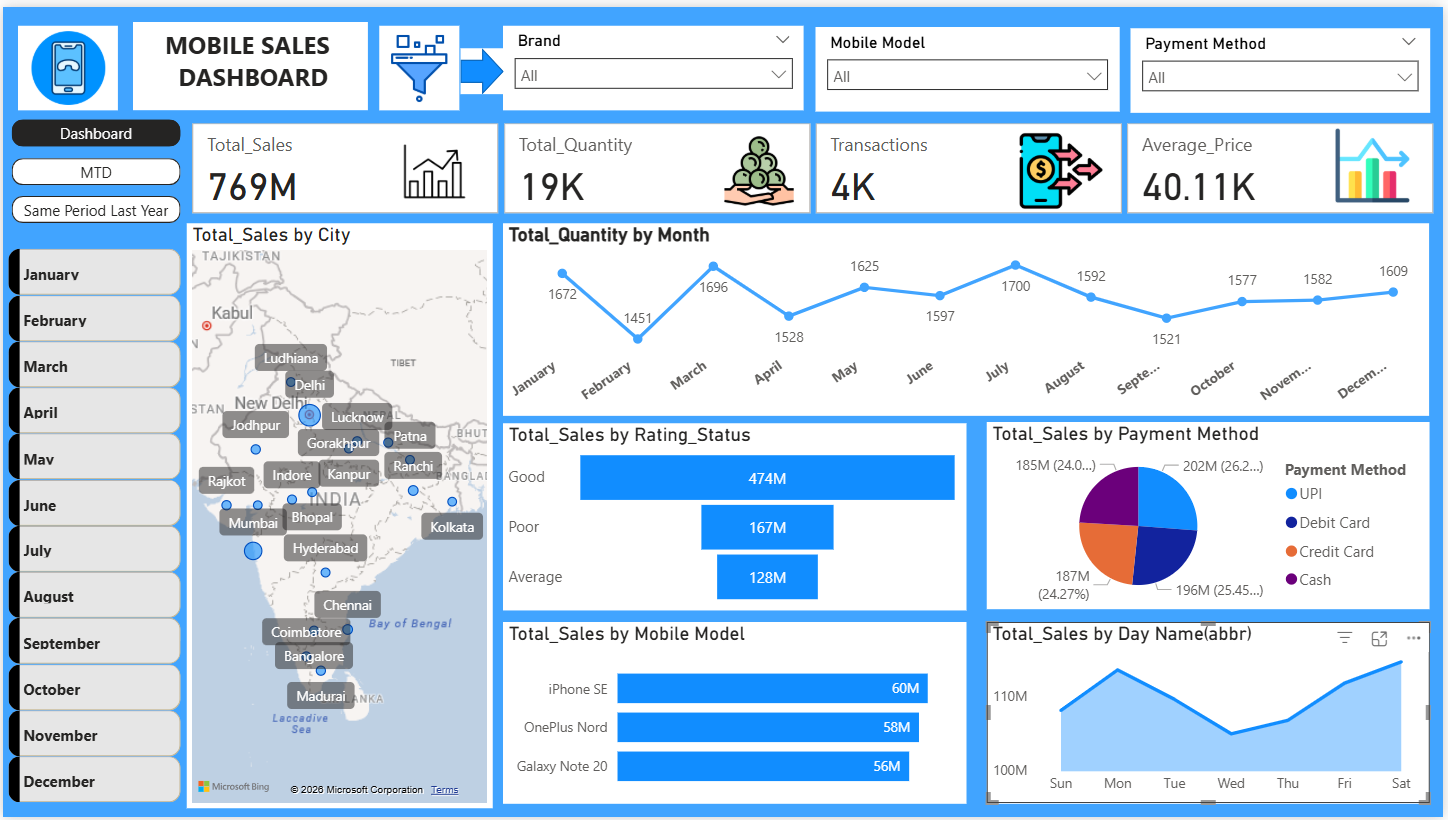

The page's visual inventory and layout, read from the dashboard file:
{"tool":"powerbi","page":{"name":"Dashboard","canvas":[1280,720],"ordinal":0},"visuals":[{"type":"advancedSlicerVisual","fields":{"Values":["Custom_Calender.Date.Variation.Date Hierarchy.Month"]},"box":[0,209.9,163.3,510.5],"z":0},{"type":"slicer","fields":{"Values":["Sales_Data.Mobile Model"]},"box":[721.8,17.8,270.3,75.5],"z":1000},{"type":"slicer","fields":{"Values":["Sales_Data.Payment Method"]},"box":[1001.7,19.2,266.2,75.5],"z":2000},{"type":"cardVisual","fields":{"Data":["Sales_Data.Total_Sales","Sales_Data.Total_Quantity","Sales_Data.Transactions","Sales_Data.Average_Price"]},"box":[163.3,102.9,1117,85.1],"z":3000},{"type":"lineChart","fields":{"Category":["Custom_Calender.Date.Variation.Date Hierarchy.Month"],"Y":["Sales_Data.Total_Quantity"]},"box":[444.6,192.1,823.3,171.5],"z":4000},{"type":"map","fields":{"Category":["Sales_Data.City"],"Size":["Sales_Data.Total_Sales"]},"box":[163.3,192.1,271.7,520.1],"z":5000},{"type":"pieChart","fields":{"Category":["Sales_Data.Payment Method"],"Y":["Sales_Data.Total_Sales"]},"box":[874.1,369.1,393.8,166],"z":6000},{"type":"funnel","fields":{"Category":["Sales_Data.Rating_Status"],"Y":["Sales_Data.Total_Sales"]},"box":[444.6,370.5,411.7,166],"z":7000},{"type":"areaChart","fields":{"Category":["Custom_Calender.Day Name(abbr)"],"Y":["Sales_Data.Total_Sales"]},"box":[874.1,546.1,393.8,161.9],"z":8000},{"type":"clusteredBarChart","fields":{"Category":["Sales_Data.Mobile Model"],"Y":["Sales_Data.Total_Sales"]},"box":[444.6,546.1,411.7,161.9],"z":9000},{"type":"slicer","fields":{"Values":["Sales_Data.Brand"]},"box":[444.6,16.5,267.6,75.5],"z":10000},{"type":"image","box":[344.4,102.9,78.2,85.1],"z":11000},{"type":"image","box":[634,102.9,75.5,85.1],"z":12000},{"type":"image","box":[898.8,102.9,83.7,85.1],"z":13000},{"type":"image","box":[1178.7,102.9,76.8,75.5],"z":14000},{"type":"textbox","box":[115.3,13.7,208.6,78.2],"z":15000},{"type":"image","box":[334.8,16.5,71.4,75.5],"z":16000},{"type":"image","box":[13.7,16.5,89.2,75.5],"z":17000},{"type":"shape","box":[406.2,37,38.4,41.2],"z":18000},{"type":"pageNavigator","box":[7.8,100,150,92.2],"z":19000}]}

Visuals, with their boxes in screenshot pixels (x1, y1, x2, y2), scaled from the page's 1280x720 canvas onto the 1448x820 screenshot:
advancedSlicerVisual - Custom_Calender.Date.Variation.Date Hierarchy.Month: box(0, 239, 185, 819)
slicer - Sales_Data.Mobile Model: box(817, 20, 1122, 106)
slicer - Sales_Data.Payment Method: box(1133, 22, 1434, 108)
cardVisual - Sales_Data.Total_Sales x Sales_Data.Total_Quantity: box(185, 117, 1447, 214)
lineChart - Custom_Calender.Date.Variation.Date Hierarchy.Month x Sales_Data.Total_Quantity: box(503, 219, 1434, 414)
map - Sales_Data.City x Sales_Data.Total_Sales: box(185, 219, 492, 811)
pieChart - Sales_Data.Payment Method x Sales_Data.Total_Sales: box(989, 420, 1434, 609)
funnel - Sales_Data.Rating_Status x Sales_Data.Total_Sales: box(503, 422, 969, 611)
areaChart - Custom_Calender.Day Name(abbr) x Sales_Data.Total_Sales: box(989, 622, 1434, 806)
clusteredBarChart - Sales_Data.Mobile Model x Sales_Data.Total_Sales: box(503, 622, 969, 806)
slicer - Sales_Data.Brand: box(503, 19, 806, 105)
image: box(390, 117, 478, 214)
image: box(717, 117, 803, 214)
image: box(1017, 117, 1111, 214)
image: box(1333, 117, 1420, 203)
textbox: box(130, 16, 366, 105)
image: box(379, 19, 460, 105)
image: box(15, 19, 116, 105)
shape: box(460, 42, 503, 89)
pageNavigator: box(9, 114, 179, 219)
